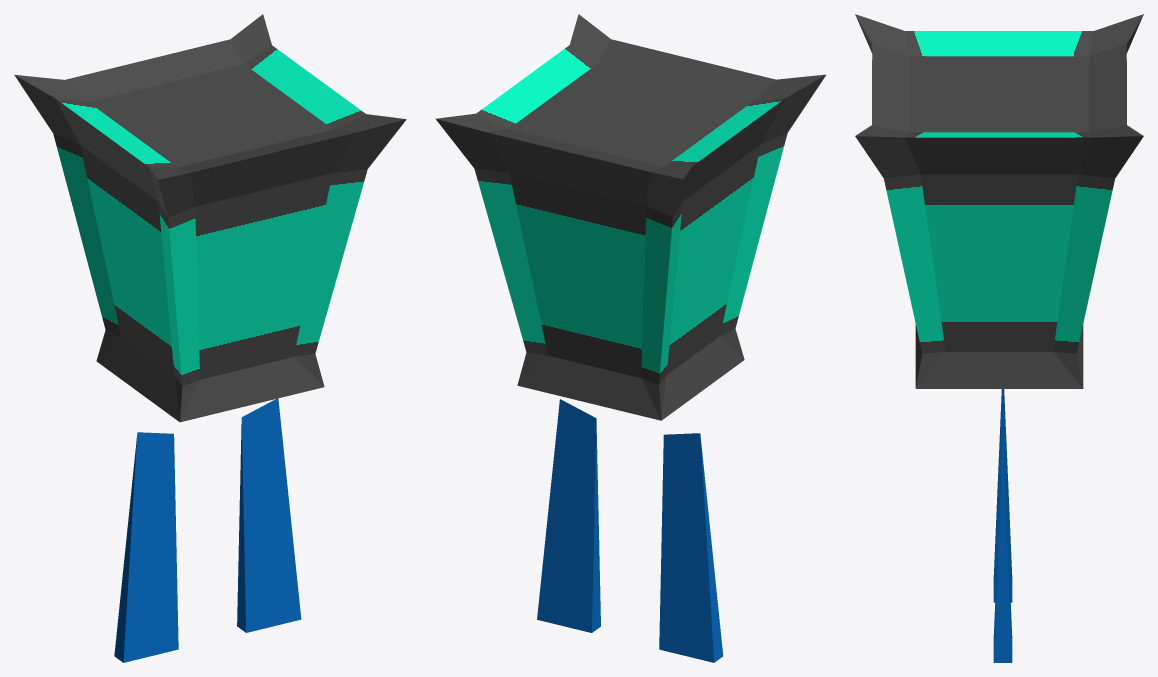
File: LanternCube_base.fbx
3 views of the same model, side by side, from view 1: azimuth 30°, elevation 25°; view 2: azimuth 150°, elevation 25°; view 3: azimuth 270°, elevation 25° (orthographic).
Visible parts, largest first — view 1: XPLantern; view 2: XPLantern; view 3: XPLantern.
Part boxes in pixels (<box>): XPLantern: <box>14,14,406,662</box>; XPLantern: <box>435,14,825,662</box>; XPLantern: <box>855,14,1143,662</box>.
Bounding box in the file's own units: 54.91 × 114 × 54.91.
